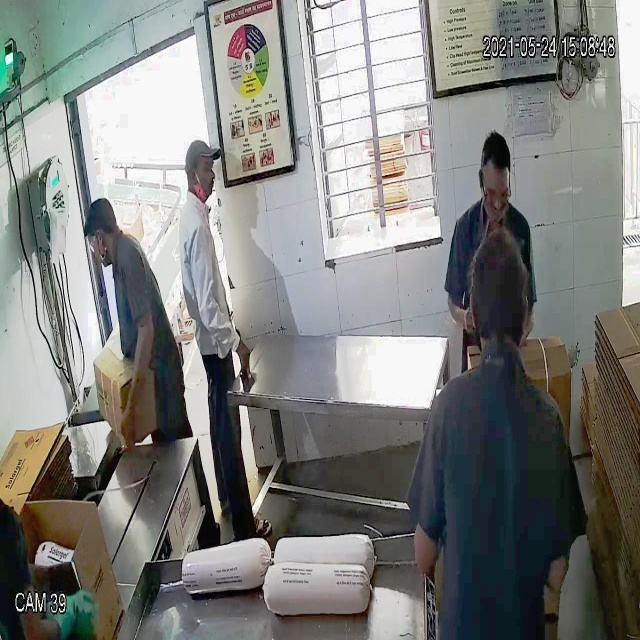Gafas: (479, 174, 514, 207)
